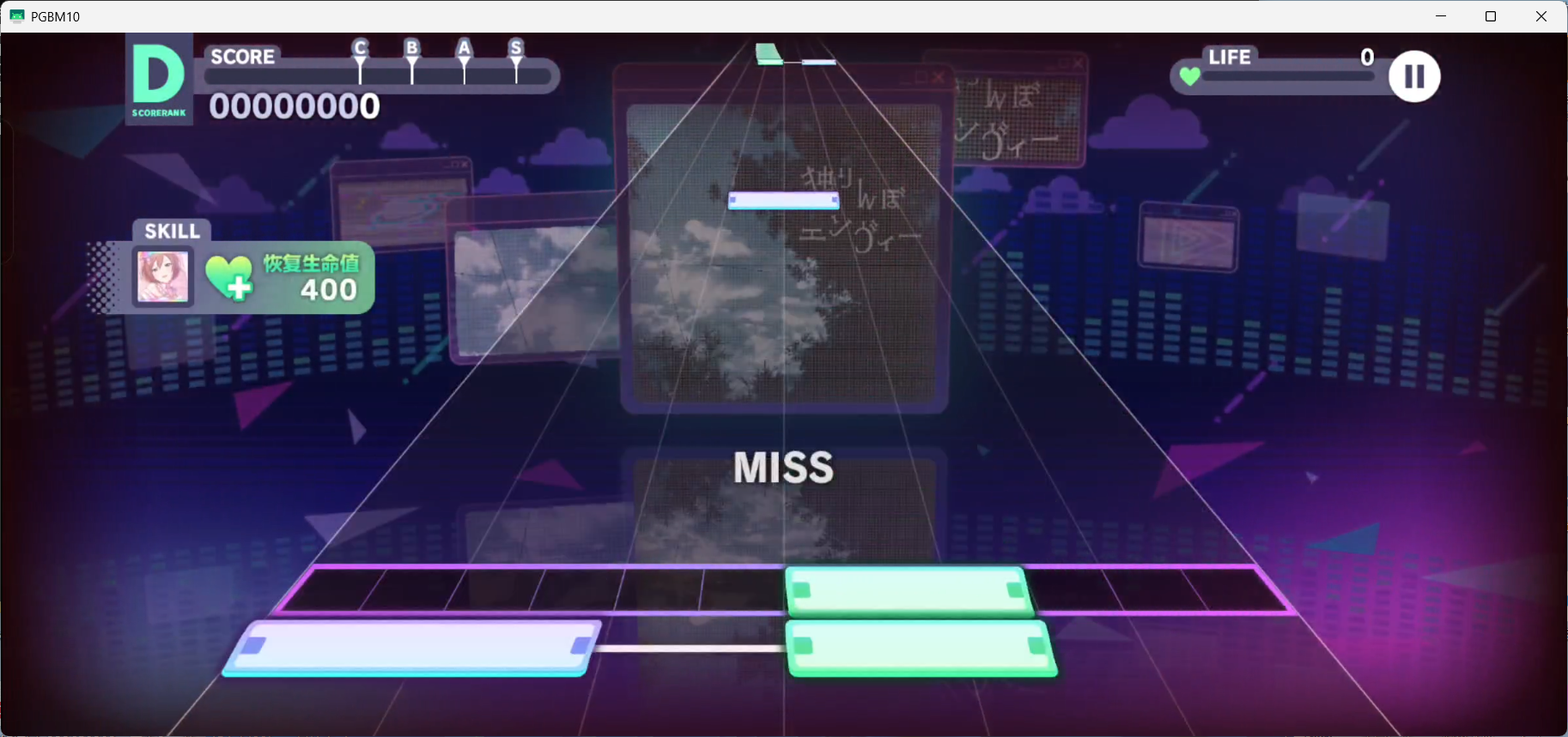hold: (756, 43, 781, 58)
tap: (221, 619, 602, 678), (783, 619, 1061, 678), (782, 565, 1036, 620), (727, 191, 839, 210), (801, 59, 836, 65), (757, 59, 783, 65)
